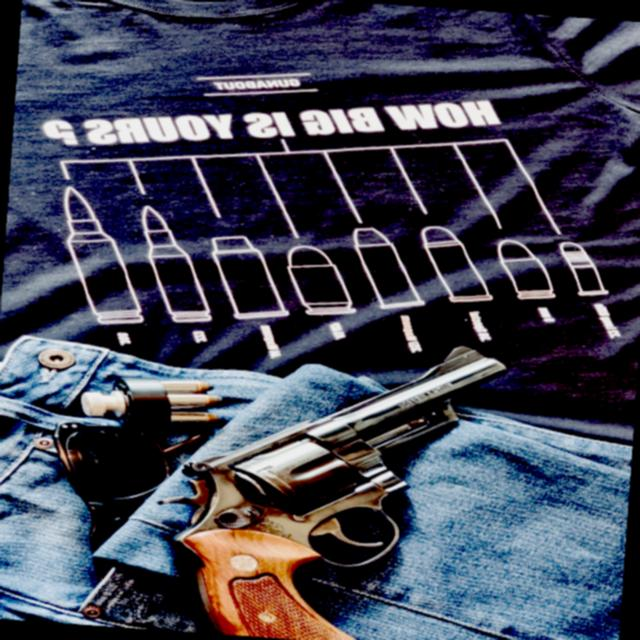revolver: (0, 305, 571, 640)
